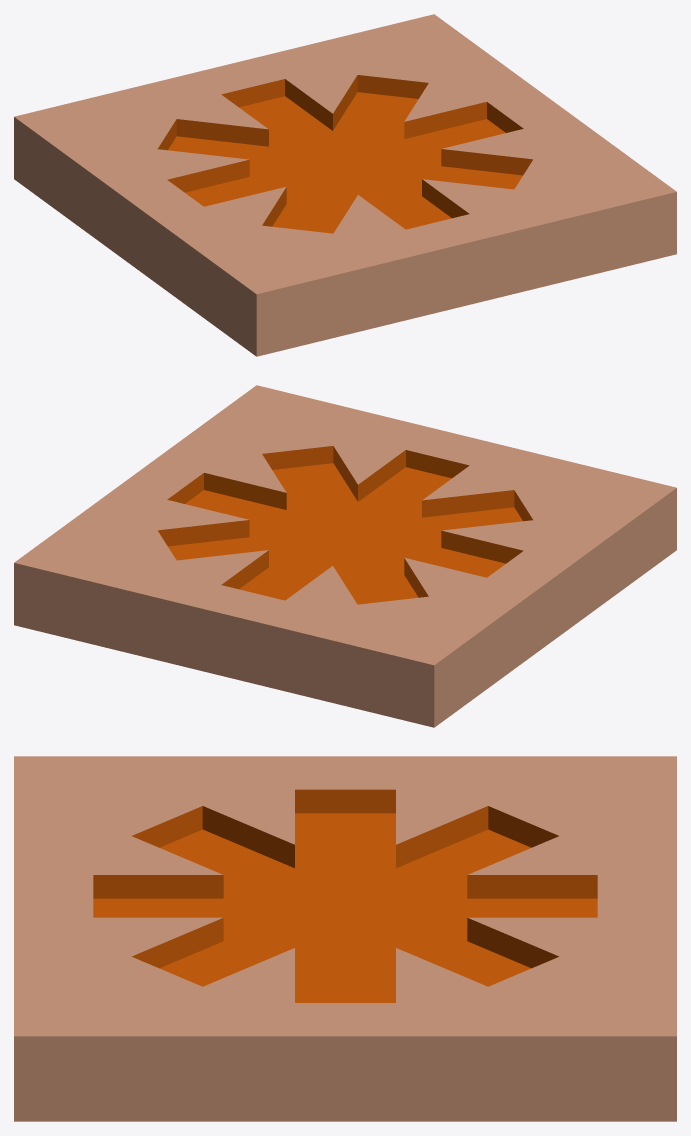
The model's file is asterisk_tile2.fbx.
3 views of the same model, one above another, from view 1: azimuth 30°, elevation 25°; view 2: azimuth 150°, elevation 25°; view 3: azimuth 270°, elevation 25° (orthographic). The views are drawn at different scales.
Visible parts, largest first — view 1: Cube.001; view 2: Cube.001; view 3: Cube.001.
Boxes of the visible parts, x1,y1,x2,y2 form: Cube.001: [14, 14, 676, 356]; Cube.001: [14, 385, 676, 727]; Cube.001: [14, 756, 676, 1121].
Bounding box in the file's own units: 10000 × 10000 × 1420.
